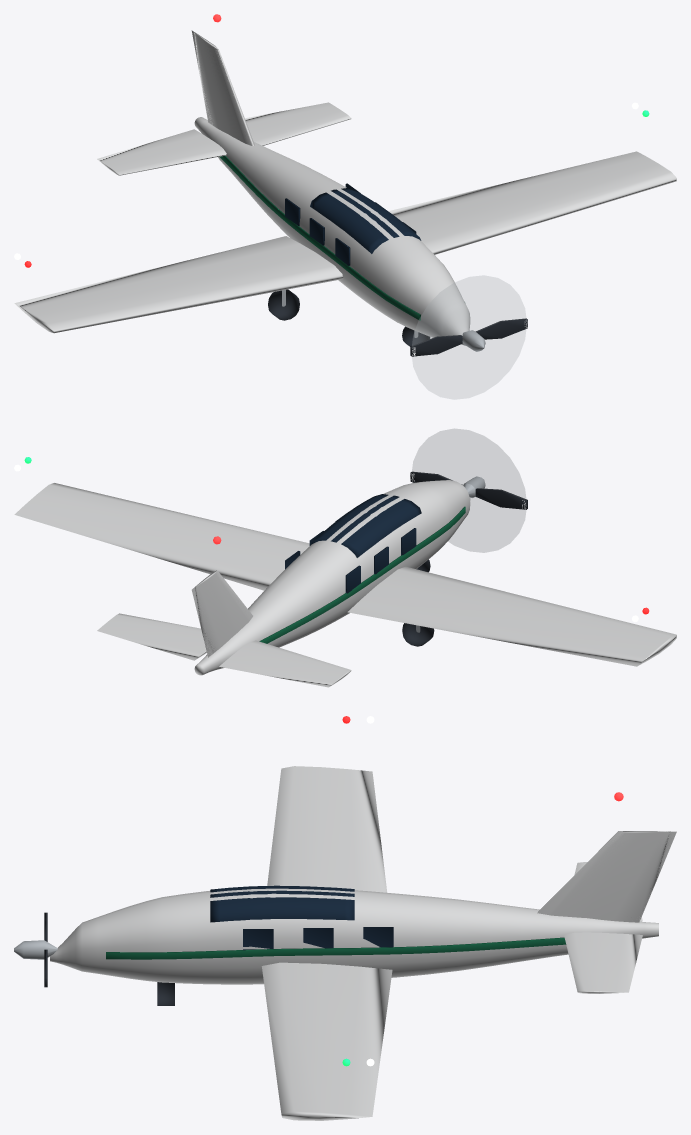
3 views of the same model, one above another, from view 1: azimuth 30°, elevation 25°; view 2: azimuth 150°, elevation 25°; view 3: azimuth 270°, elevation 25° (orthographic). The views are drawn at different scales.
Parts seen in each view (by area): view 1: body, disc0, prop0, gearL_fixed; view 2: body, disc0, prop0, gearL_fixed; view 3: body, prop0.
Part boxes in pixels (left/top/right/bottom): body: left=14, top=30, right=676, bottom=345; disc0: left=412, top=275, right=526, bottom=399; prop0: left=410, top=318, right=527, bottom=356; gearL_fixed: left=268, top=289, right=299, bottom=320; body: left=14, top=480, right=676, bottom=687; disc0: left=412, top=428, right=526, bottom=552; prop0: left=410, top=471, right=527, bottom=509; gearL_fixed: left=402, top=623, right=434, bottom=646; body: left=50, top=766, right=676, bottom=1120; prop0: left=14, top=912, right=57, bottom=987.
Bounding box in the file's own units: 10.22 × 3.12 × 8.28.
